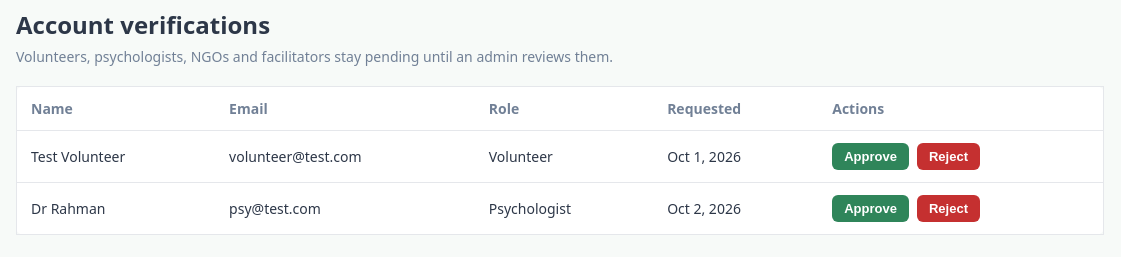
Verifications page › approves an account and drops the row
Check: the text "Test Volunteer" is shown, box [16, 130, 215, 182]
Click the button "Approve" in the row of "Test Volunteer". click: (871, 156)
box: [832, 143, 909, 170]
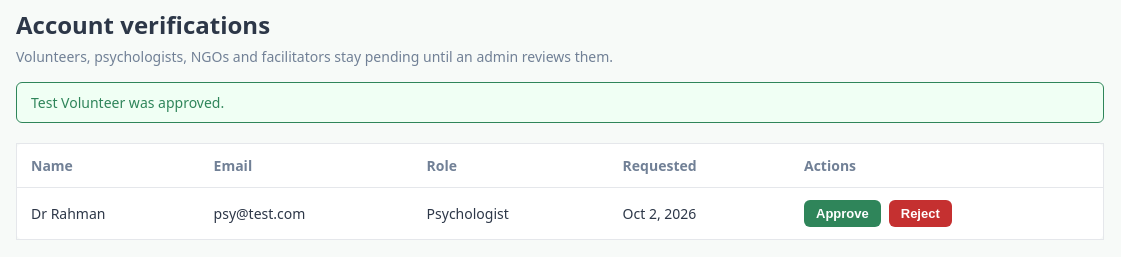
Check: the text "Dr Rahman" is shown, box [16, 188, 200, 240]
Check: the text with test id "verifications-notice" reads "Test Volunteer was approved.", box [31, 93, 224, 112]
